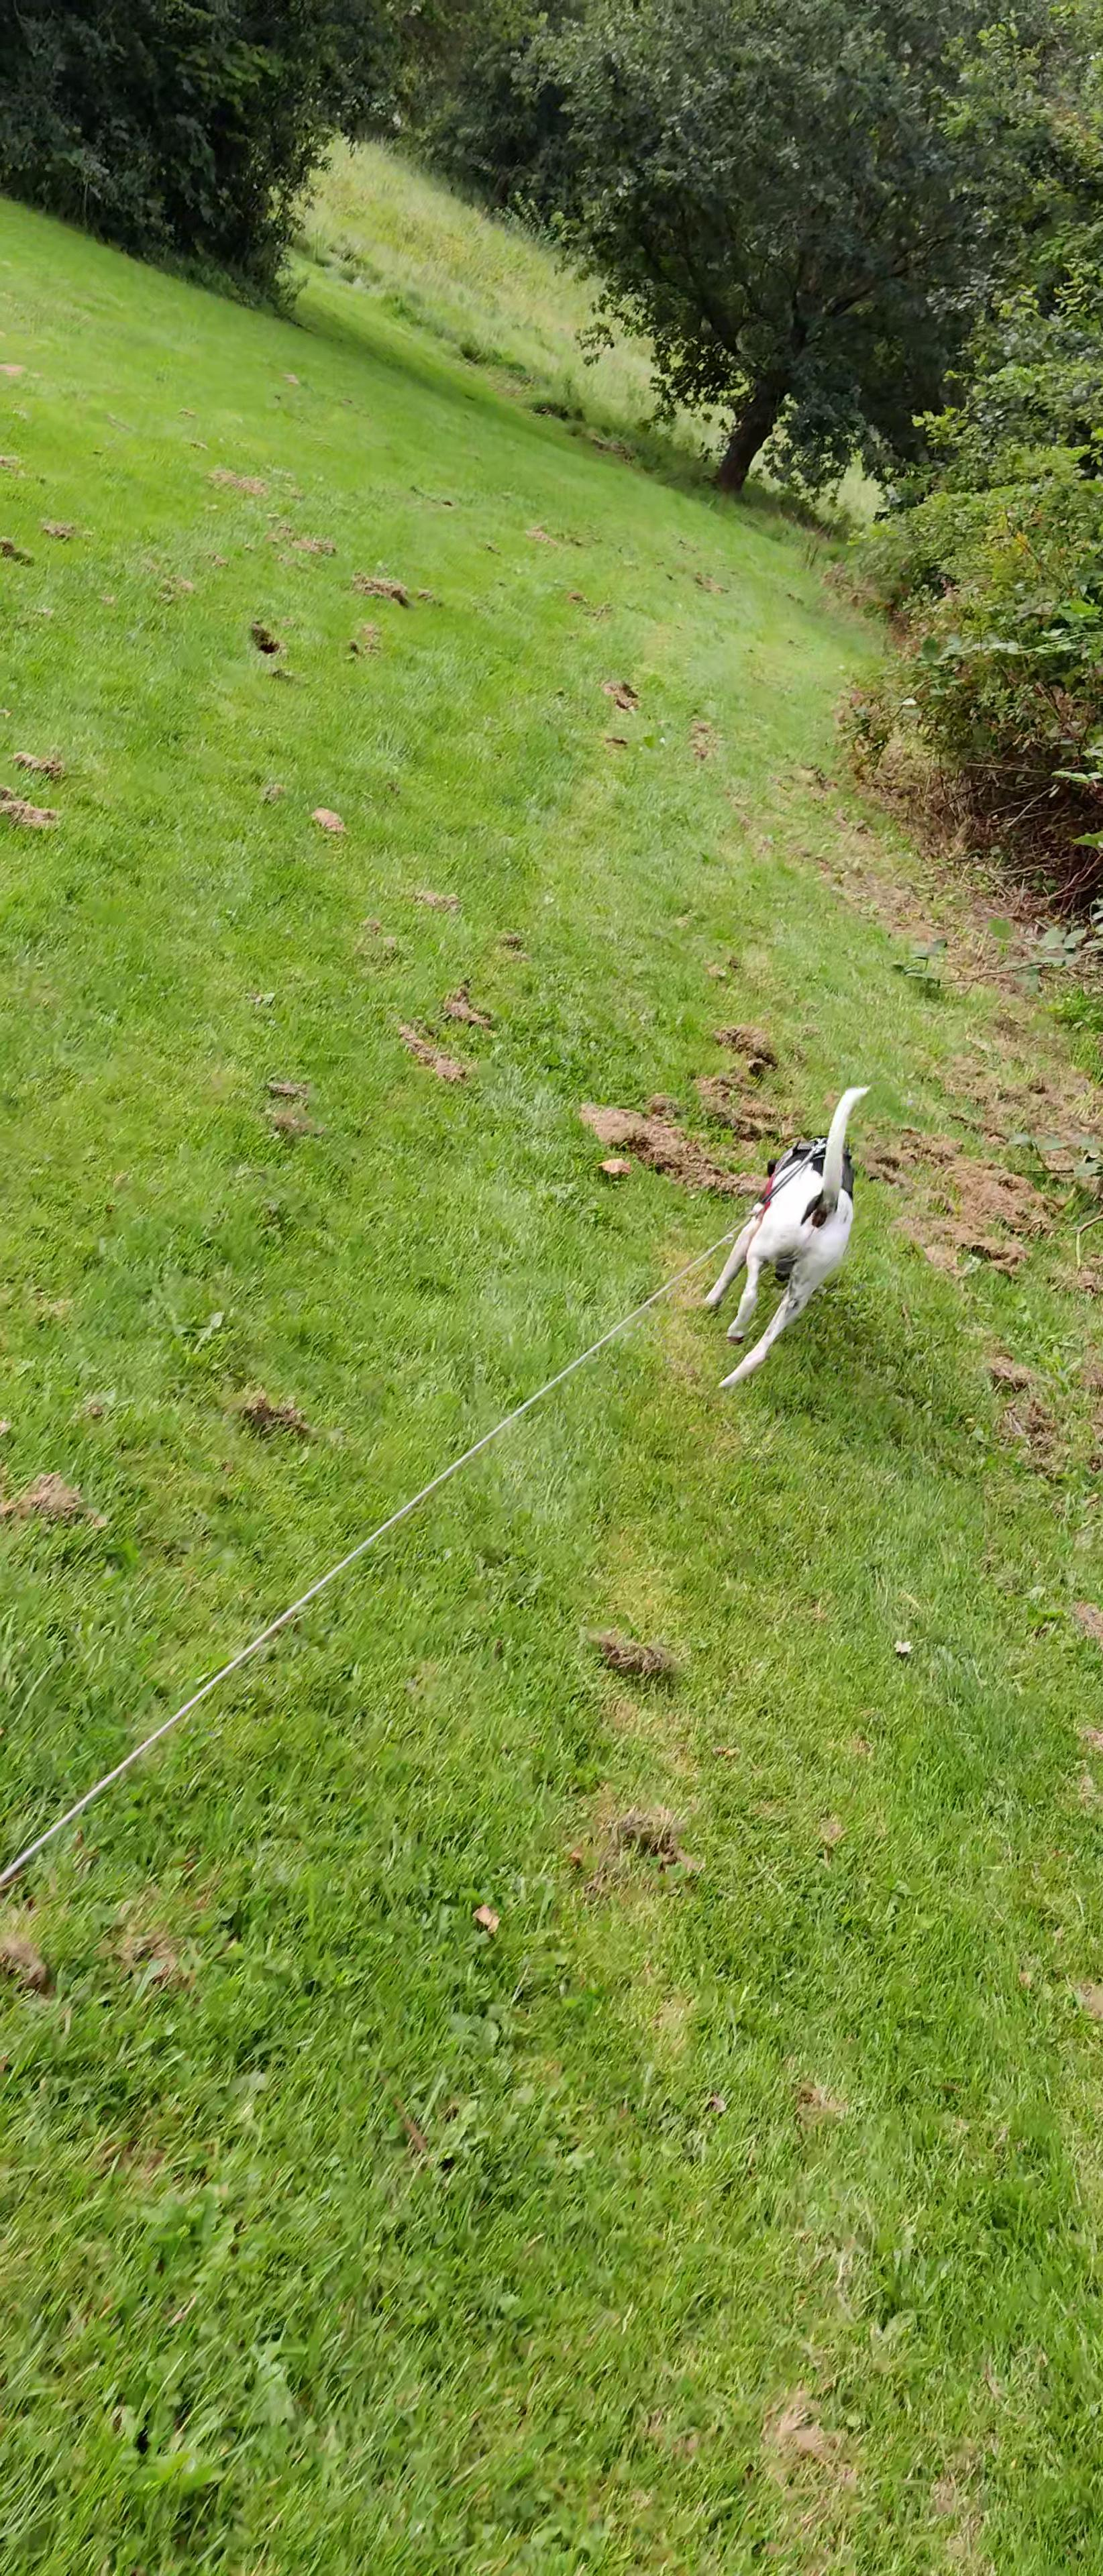Dog: (694, 1084, 875, 1393)
